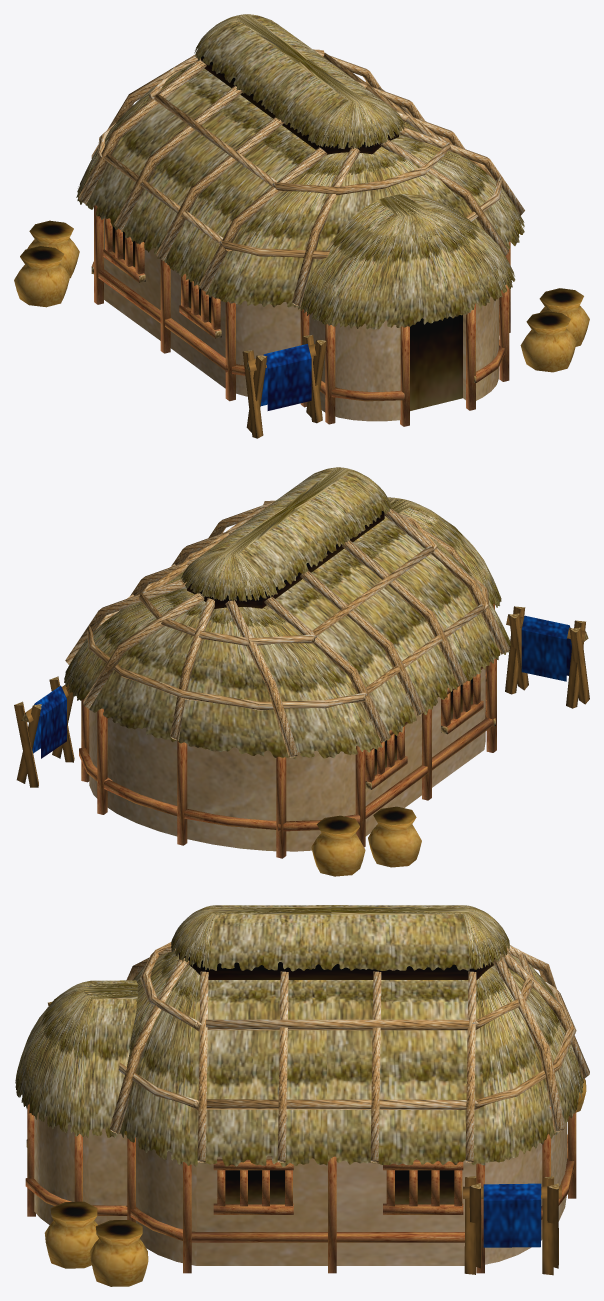
File: house_1.dae
3 views of the same model, one above another, from view 1: azimuth 30°, elevation 25°; view 2: azimuth 150°, elevation 25°; view 3: azimuth 270°, elevation 25° (orthographic). The views are drawn at different scales.
Parts seen in each view (by area): view 1: house_1; view 2: house_1; view 3: house_1.
Boxes of the visible parts, x1=… form: house_1: x1=14, y1=14, x2=589, y2=438; house_1: x1=14, y1=467, x2=589, y2=876; house_1: x1=15, y1=905, x2=589, y2=1286.
Size of the model in its own units: 11.11 by 12.69 by 6.97.
